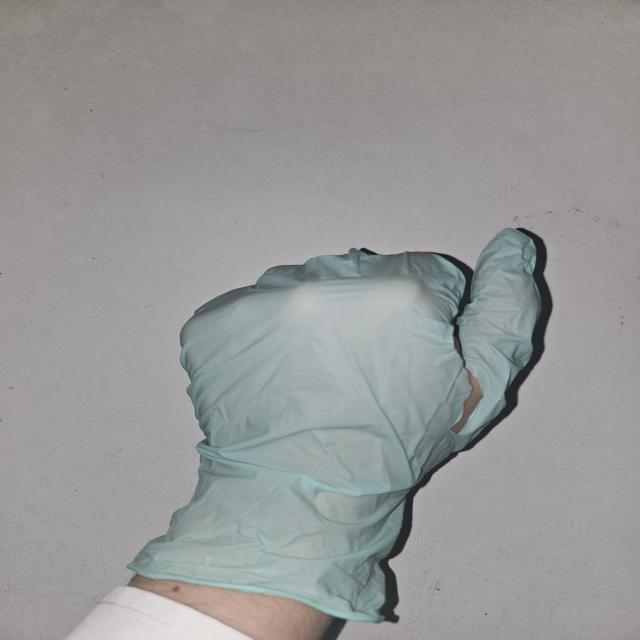gloves_damaged: (122, 224, 552, 626)
